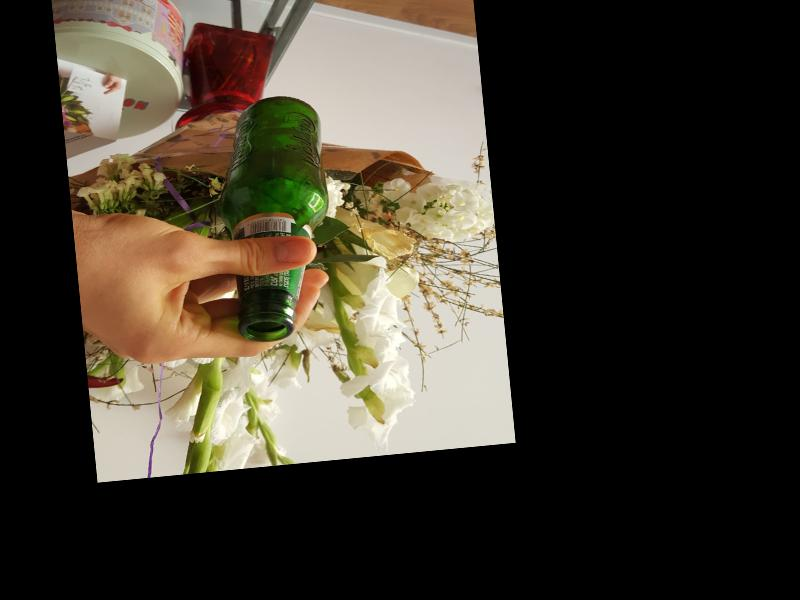Beer: (210, 91, 342, 343)
